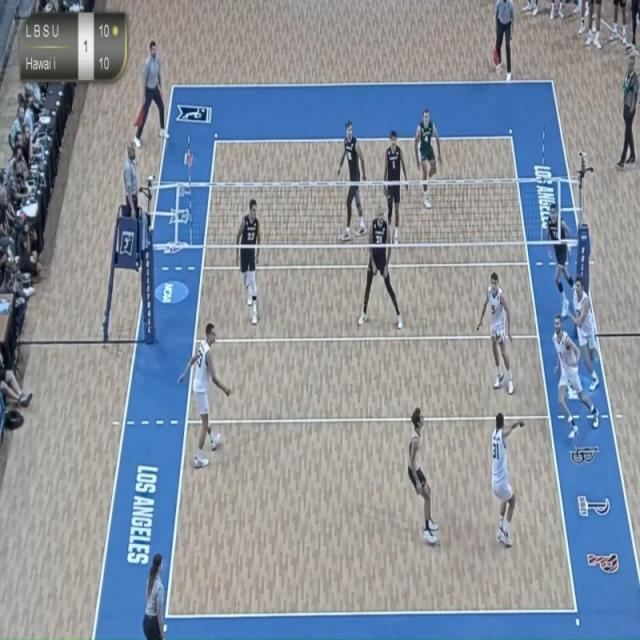volleyball: (493, 324, 506, 347)
